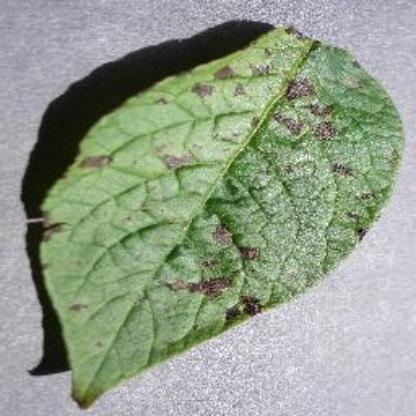Early-Blight: (35, 19, 403, 405)
